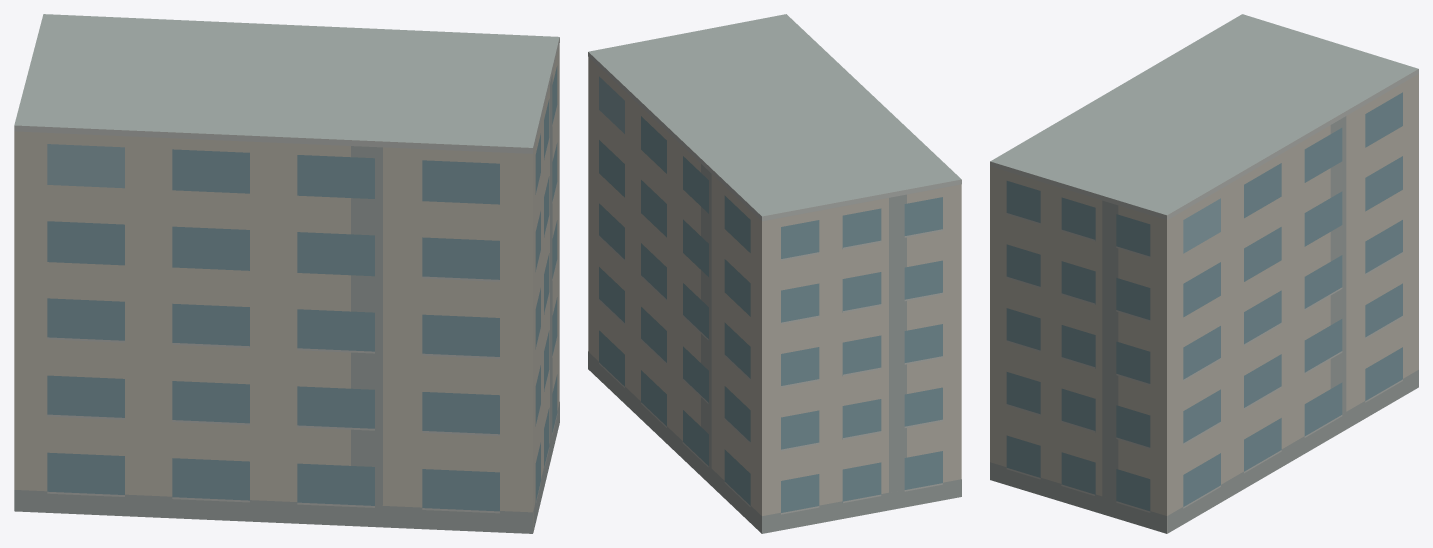
Rendered from survey-upis-32767267.glb.
3 renders of one model, left to right at view 1: azimuth 30°, elevation 25°; view 2: azimuth 150°, elevation 25°; view 3: azimuth 270°, elevation 25°, orthographic. The views are drawn at different scales.
Parts seen in each view (by area): view 1: survey-upis-32767267.tmp; view 2: survey-upis-32767267.tmp; view 3: survey-upis-32767267.tmp.
Boxes of the visible parts, x1,y1,x2,y2 form: survey-upis-32767267.tmp: [14, 14, 559, 533]; survey-upis-32767267.tmp: [588, 14, 961, 533]; survey-upis-32767267.tmp: [990, 14, 1418, 533].
Size of the model in its own units: 21.47 by 15.83 by 19.32.
